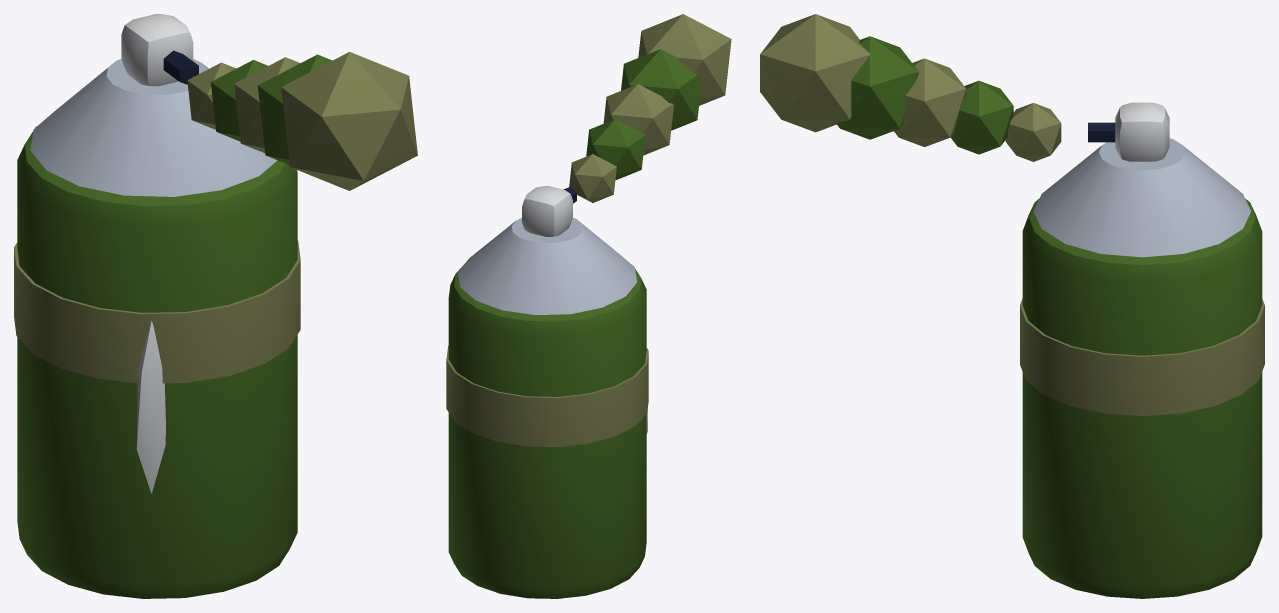
The model's file is lo_wskin_tarn.glb.
3 renders of one model, left to right at view 1: azimuth 30°, elevation 25°; view 2: azimuth 150°, elevation 25°; view 3: azimuth 270°, elevation 25°, orthographic. The views are drawn at different scales.
Visible parts, largest first — view 1: body; view 2: body; view 3: body.
Boxes of the visible parts, x1,y1,x2,y2 form: body: (14, 14, 417, 598); body: (446, 14, 731, 598); body: (760, 14, 1264, 598).
Bounding box in the file's own units: 0.45 × 1.1 × 0.9271.
